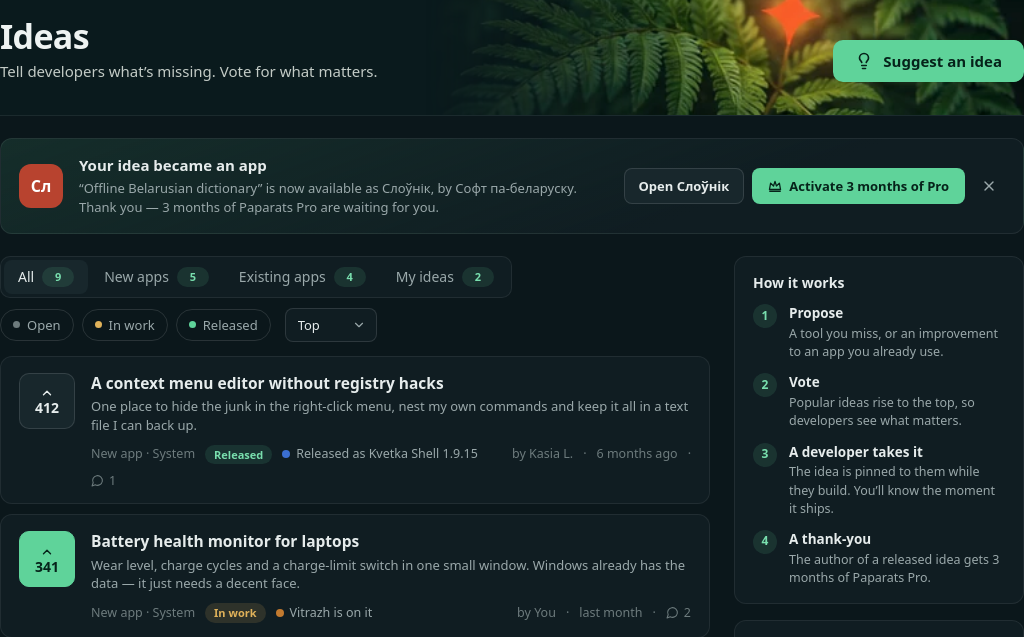
Scenario: IdeasScreen › filters by tab and keeps the counts over every status
Expected: the heading "Ideas" is shown, [0,13,89,59]
What coordinates should you click on to do the following:
click the tab "New apps 5"
I would click on:
 (157, 277)
Its box is [90,260,223,294].
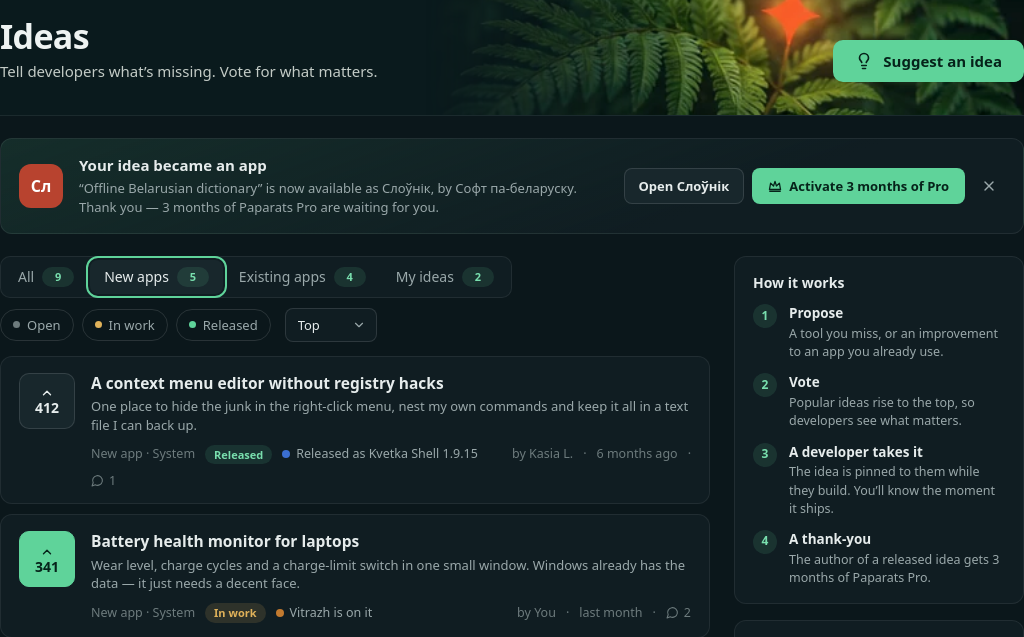
Expected: the tab "New apps 5" is selected, [90,260,223,294]
What coordinates should you click on to do the following:
click the tab "Existing apps 4"
I would click on:
 (302, 277)
Its box is [225,260,380,294].
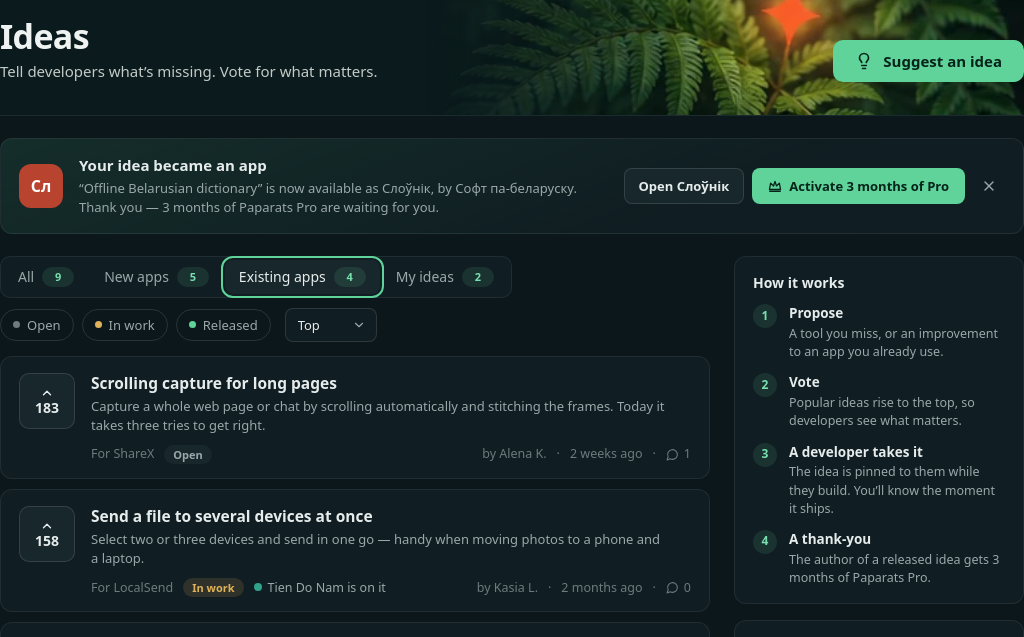
What coordinates should you click on to do the following:
click the tab "My ideas 2"
I would click on:
 (445, 277)
Its box is [382,260,508,294].
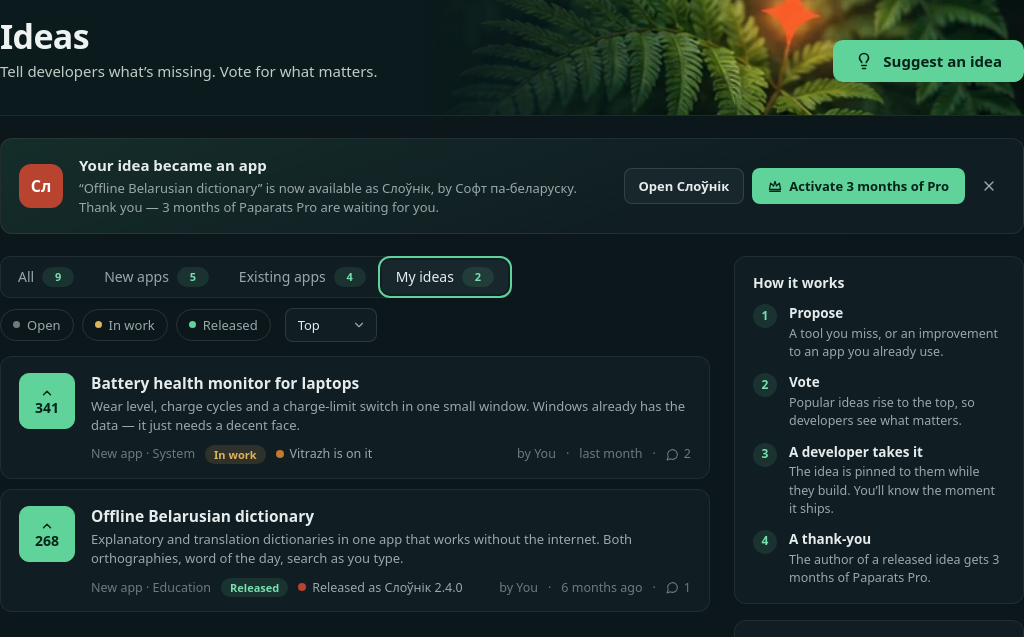
What coordinates should you click on to do the following:
click the button "Open"
I would click on:
 (37, 325)
Its box is [0,309,74,341].
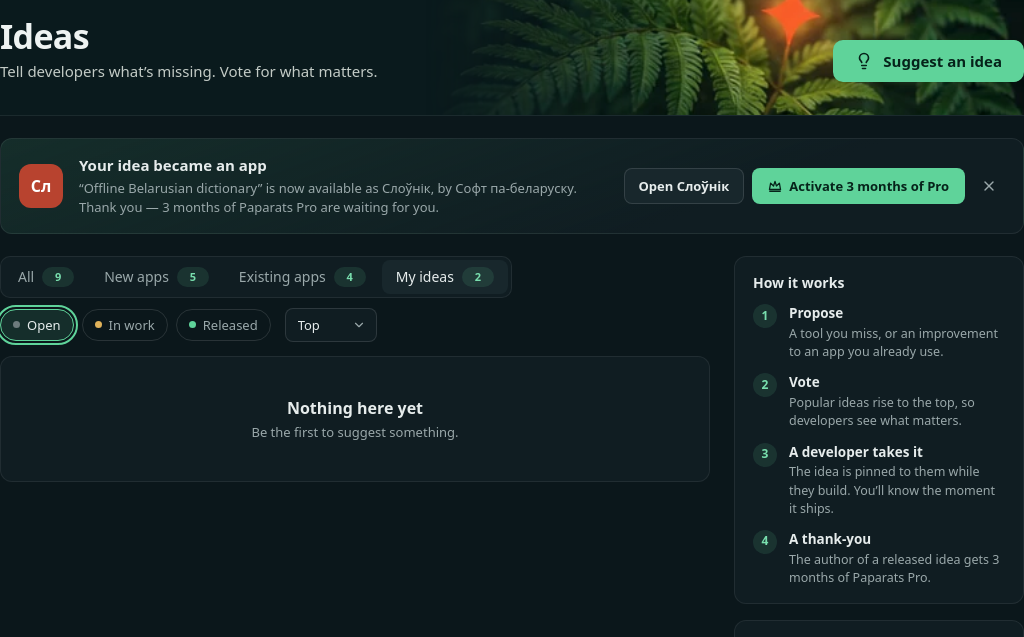
Expected: the tab "My ideas 2" is shown, [382,260,508,294]
Expected: the text "Nothing here yet" is shown, [287,397,423,419]
Expected: the text "Be the first to suggest something." is shown, [252,423,459,441]
